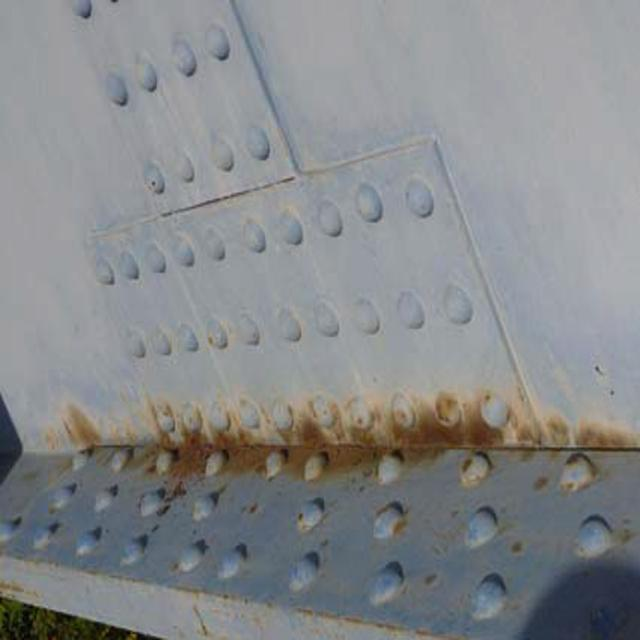corrosion: (65, 392, 614, 478)
